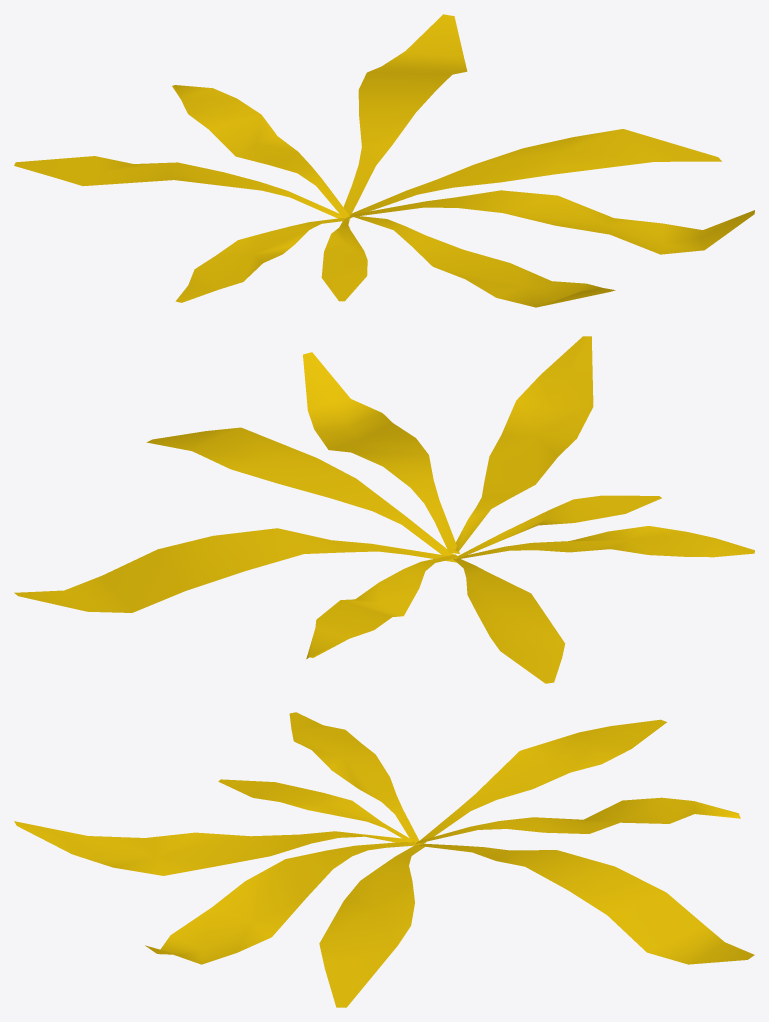
File: PS_Level1_ThornyWeed01.fbx
3 renders of one model, top to bottom at view 1: azimuth 30°, elevation 25°; view 2: azimuth 150°, elevation 25°; view 3: azimuth 270°, elevation 25°, orthographic. The views are drawn at different scales.
Visible parts, largest first — view 1: PS_Level1_ThornyWeed1_LOD0; view 2: PS_Level1_ThornyWeed1_LOD0; view 3: PS_Level1_ThornyWeed1_LOD0.
Part boxes in pixels (x1,y1,x2,y2): PS_Level1_ThornyWeed1_LOD0: (14, 14, 754, 307); PS_Level1_ThornyWeed1_LOD0: (14, 336, 754, 683); PS_Level1_ThornyWeed1_LOD0: (14, 712, 754, 1007).
Size of what is drawn, in the model's own units: 22.63 by 2.15 by 25.04.
